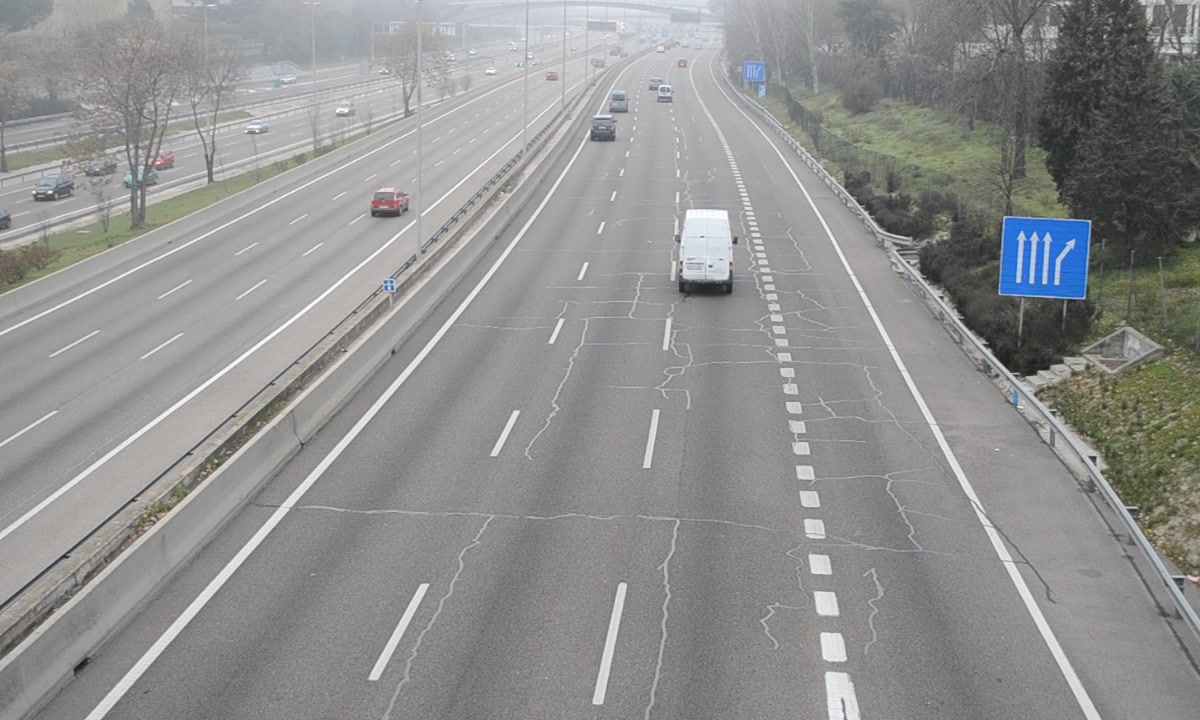car: (590, 114, 619, 142)
van: (679, 210, 737, 292)
